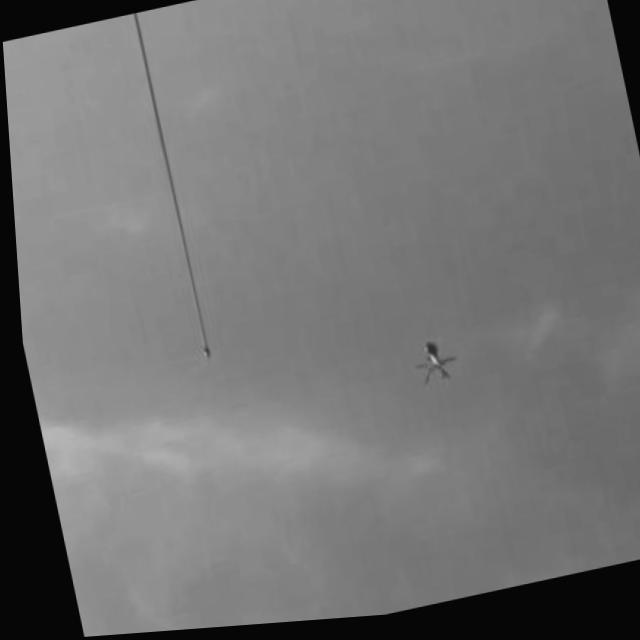helikopter: (404, 342, 455, 398)
